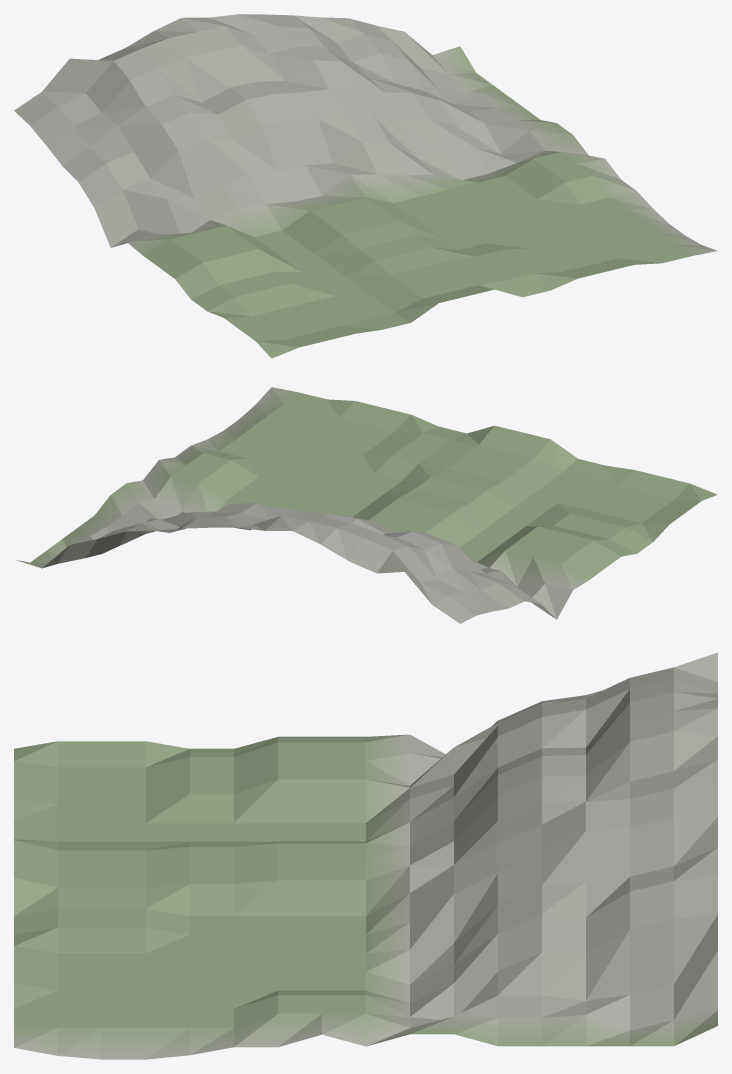
3 renders of one model, top to bottom at view 1: azimuth 30°, elevation 25°; view 2: azimuth 150°, elevation 25°; view 3: azimuth 270°, elevation 25°, orthographic. The views are drawn at different scales.
Bounding box in the file's own units: 32 × 8.29 × 32.
